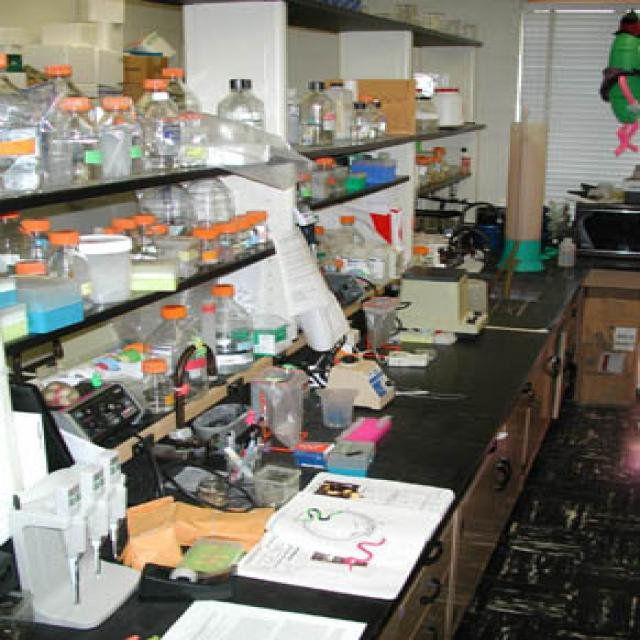2003: (515, 5, 638, 216)
bottle crop: (202, 284, 255, 365), (297, 79, 334, 144)
box contants: (0, 275, 84, 332)
cupboard crop: (0, 246, 638, 637)
floor -X: (449, 369, 638, 638)
jar -X: (141, 360, 169, 411)
jars: (191, 208, 268, 264)
machine crop: (7, 450, 139, 624), (398, 262, 490, 333), (321, 350, 396, 409)
storage jar: (75, 231, 132, 300)
wall clock: (354, 0, 638, 318)
